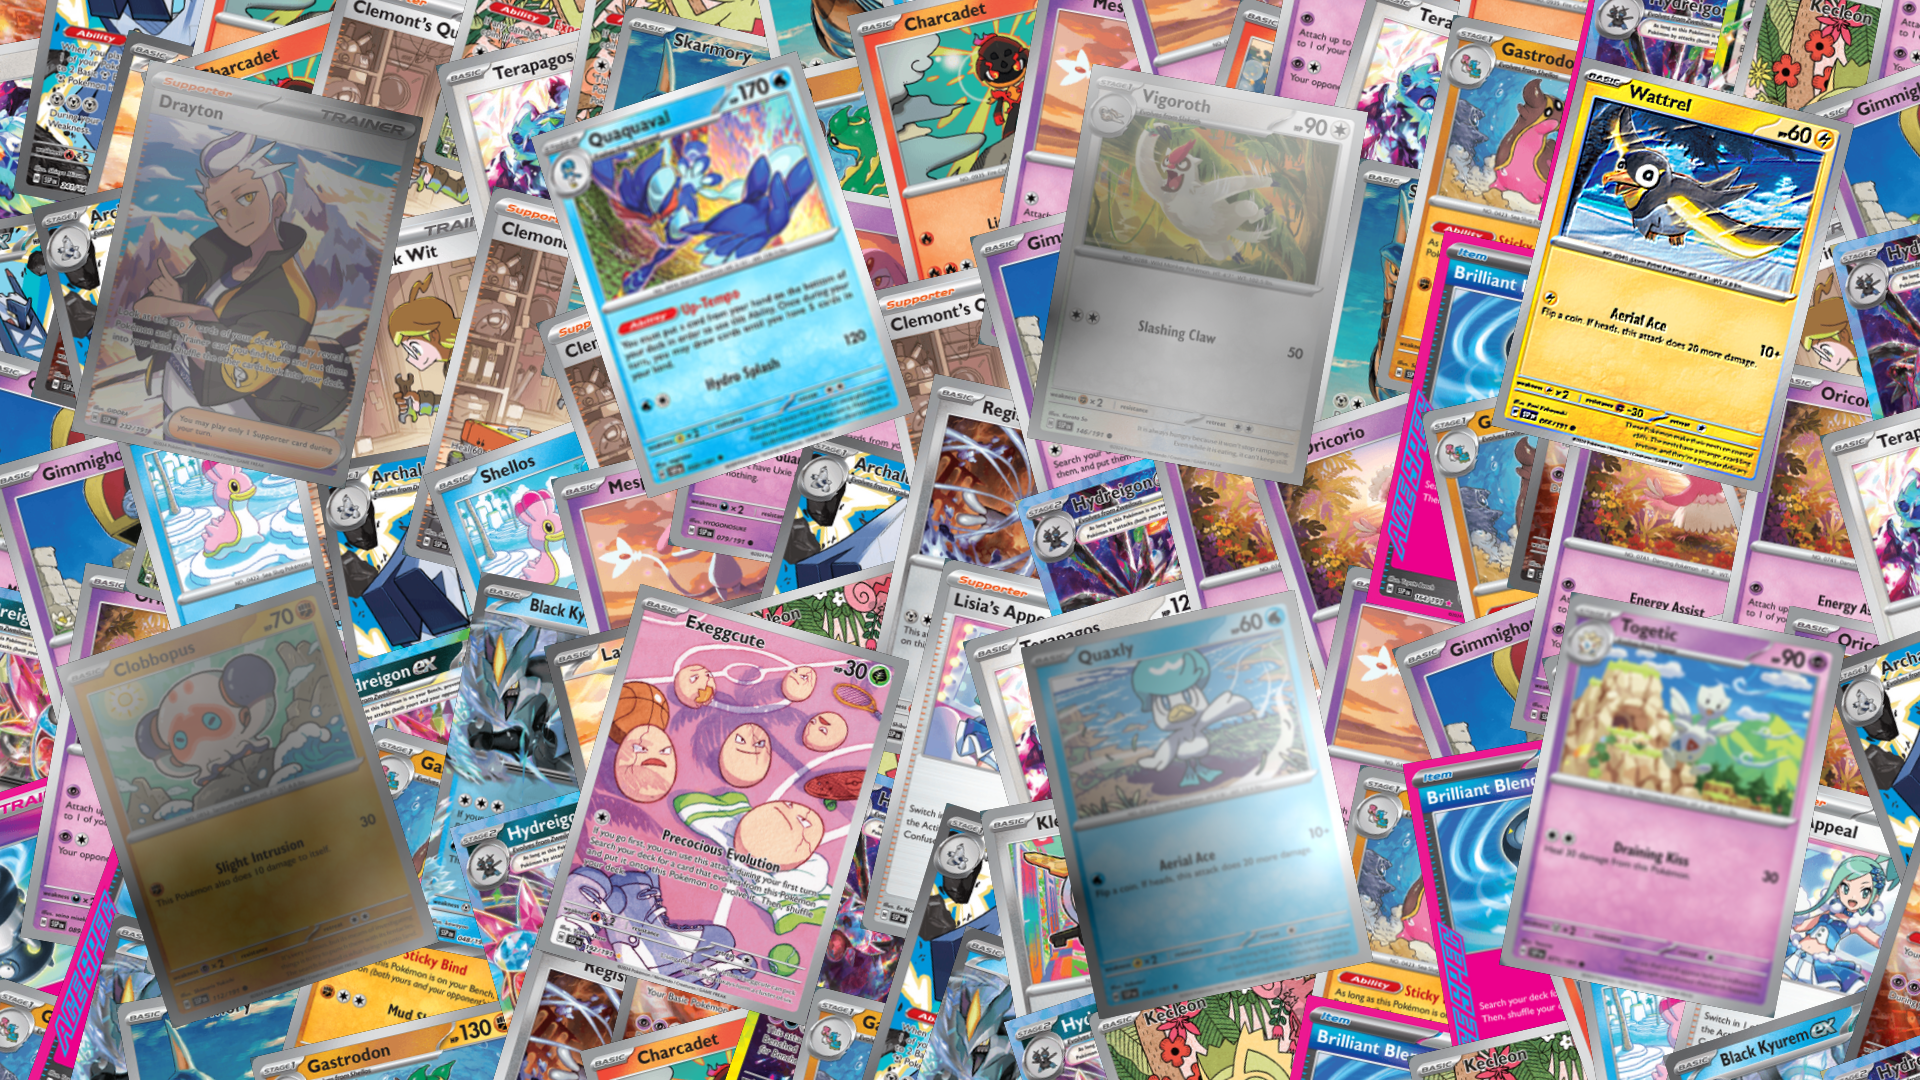Clobbopus: (55, 580, 439, 1029)
Drayton: (70, 59, 423, 489)
Exeggcute: (535, 583, 909, 1026)
Quaquaval: (530, 50, 914, 498)
Quaxly: (1021, 589, 1373, 1019)
Togetic: (1498, 591, 1846, 1018)
Vigoroth: (1026, 63, 1367, 487)
Wattrel: (1490, 55, 1854, 493)
